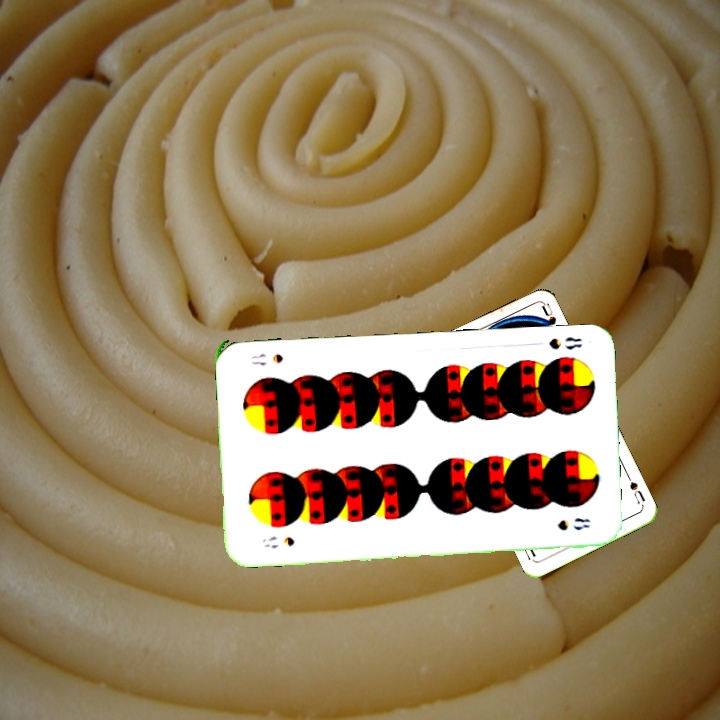S8: (544, 333, 584, 352), (258, 532, 297, 551)
SU: (623, 471, 648, 506)
